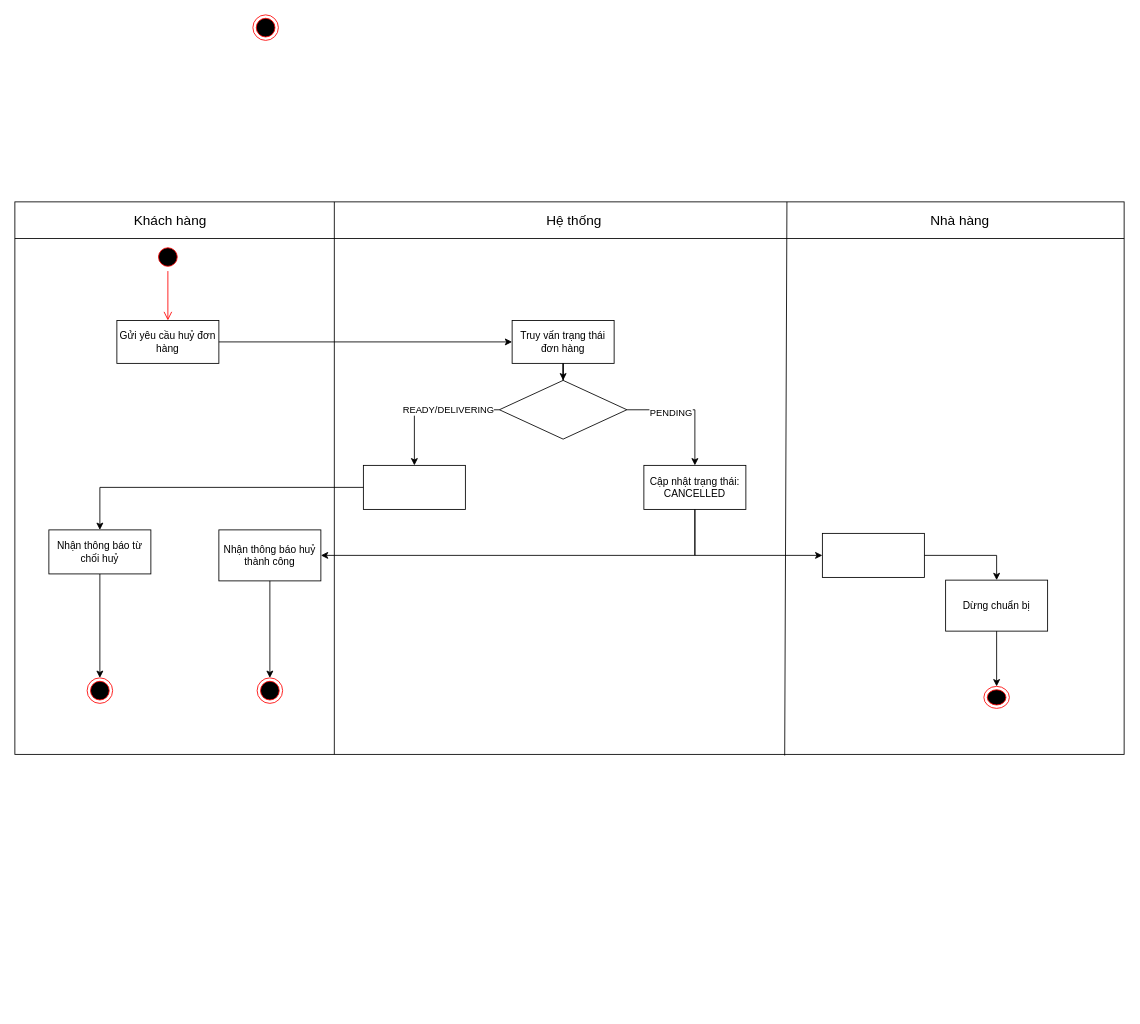
The diagram is 1140 pixels wide and 1024 high, and some of its shapes have lost their labels. Here are the shapes that lost their labels. From the top down, the centre of each, then its label:
At (563,409): "OrderStatus?".
At (414,487): "Hệ thống từ chối huỷ đơn".
At (873,555): "Nhận thông báo khách huỷ đơn".
